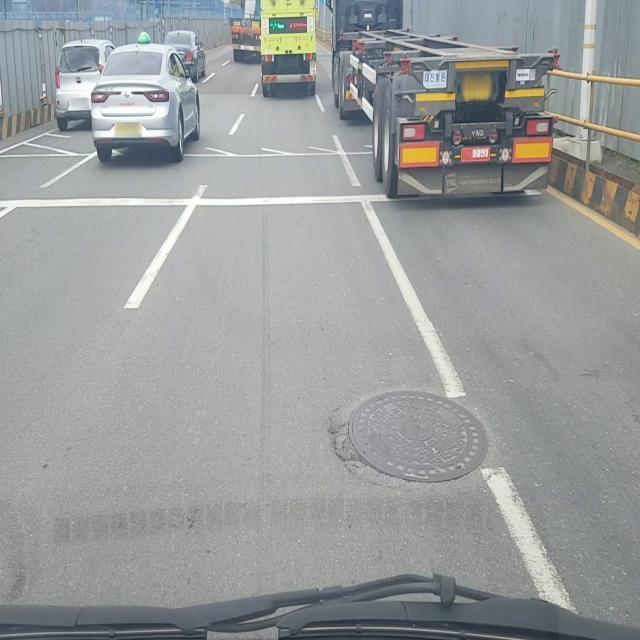pothole: (326, 387, 492, 485)
